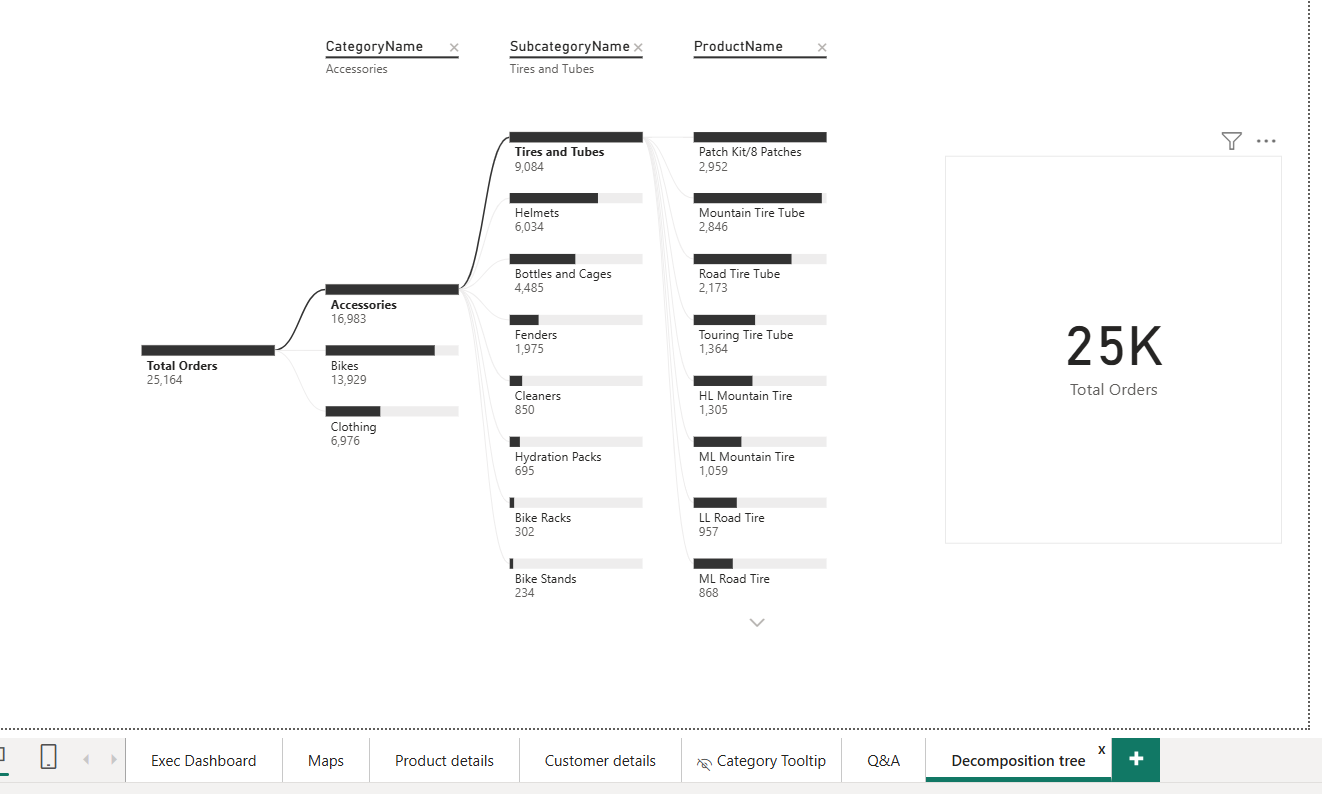

The page's visual inventory and layout, read from the dashboard file:
{"tool":"powerbi","page":{"name":"Decomposition tree","canvas":[1280,720],"ordinal":6},"visuals":[{"type":"decompositionTreeVisual","fields":{"ExplainBy":["Product Categories Lookup.CategoryName","Product Subcategories Lookup.SubcategoryName","Product Lookup.ProductName"],"Analyze":["Measure Table.Total Orders"]},"box":[108.2,28.6,743.9,623.2],"z":0},{"type":"card","fields":{"Values":["Measure Table.Total Orders"]},"box":[924.3,160.5,330.9,379.4],"z":1}]}

Visuals, with their boxes on the page's 1280x720 design canvas (x1, y1, x2, y2). These are canvas units, not pixel positions in the 1322x794 screenshot, which may show the page scaled, cropped or inside an application window:
decompositionTreeVisual - Product Categories Lookup.CategoryName x Product Subcategories Lookup.SubcategoryName: pyautogui.locateOnScreen(108, 29, 852, 652)
card - Measure Table.Total Orders: pyautogui.locateOnScreen(924, 160, 1255, 540)
